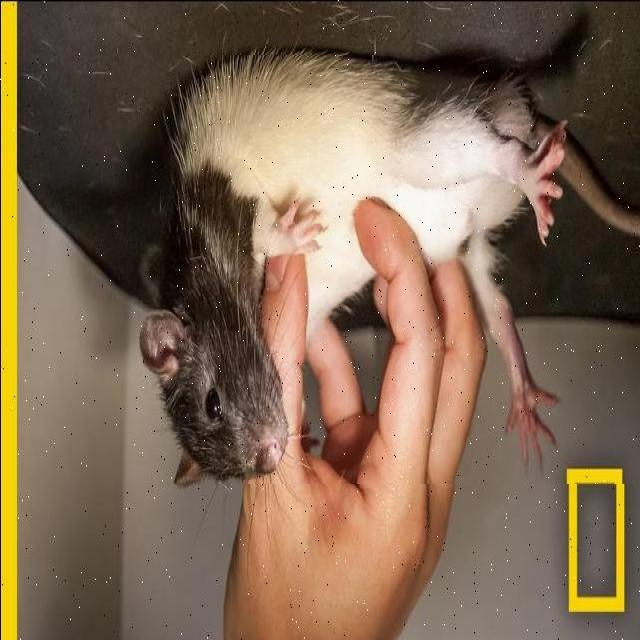rat: (144, 55, 638, 484)
